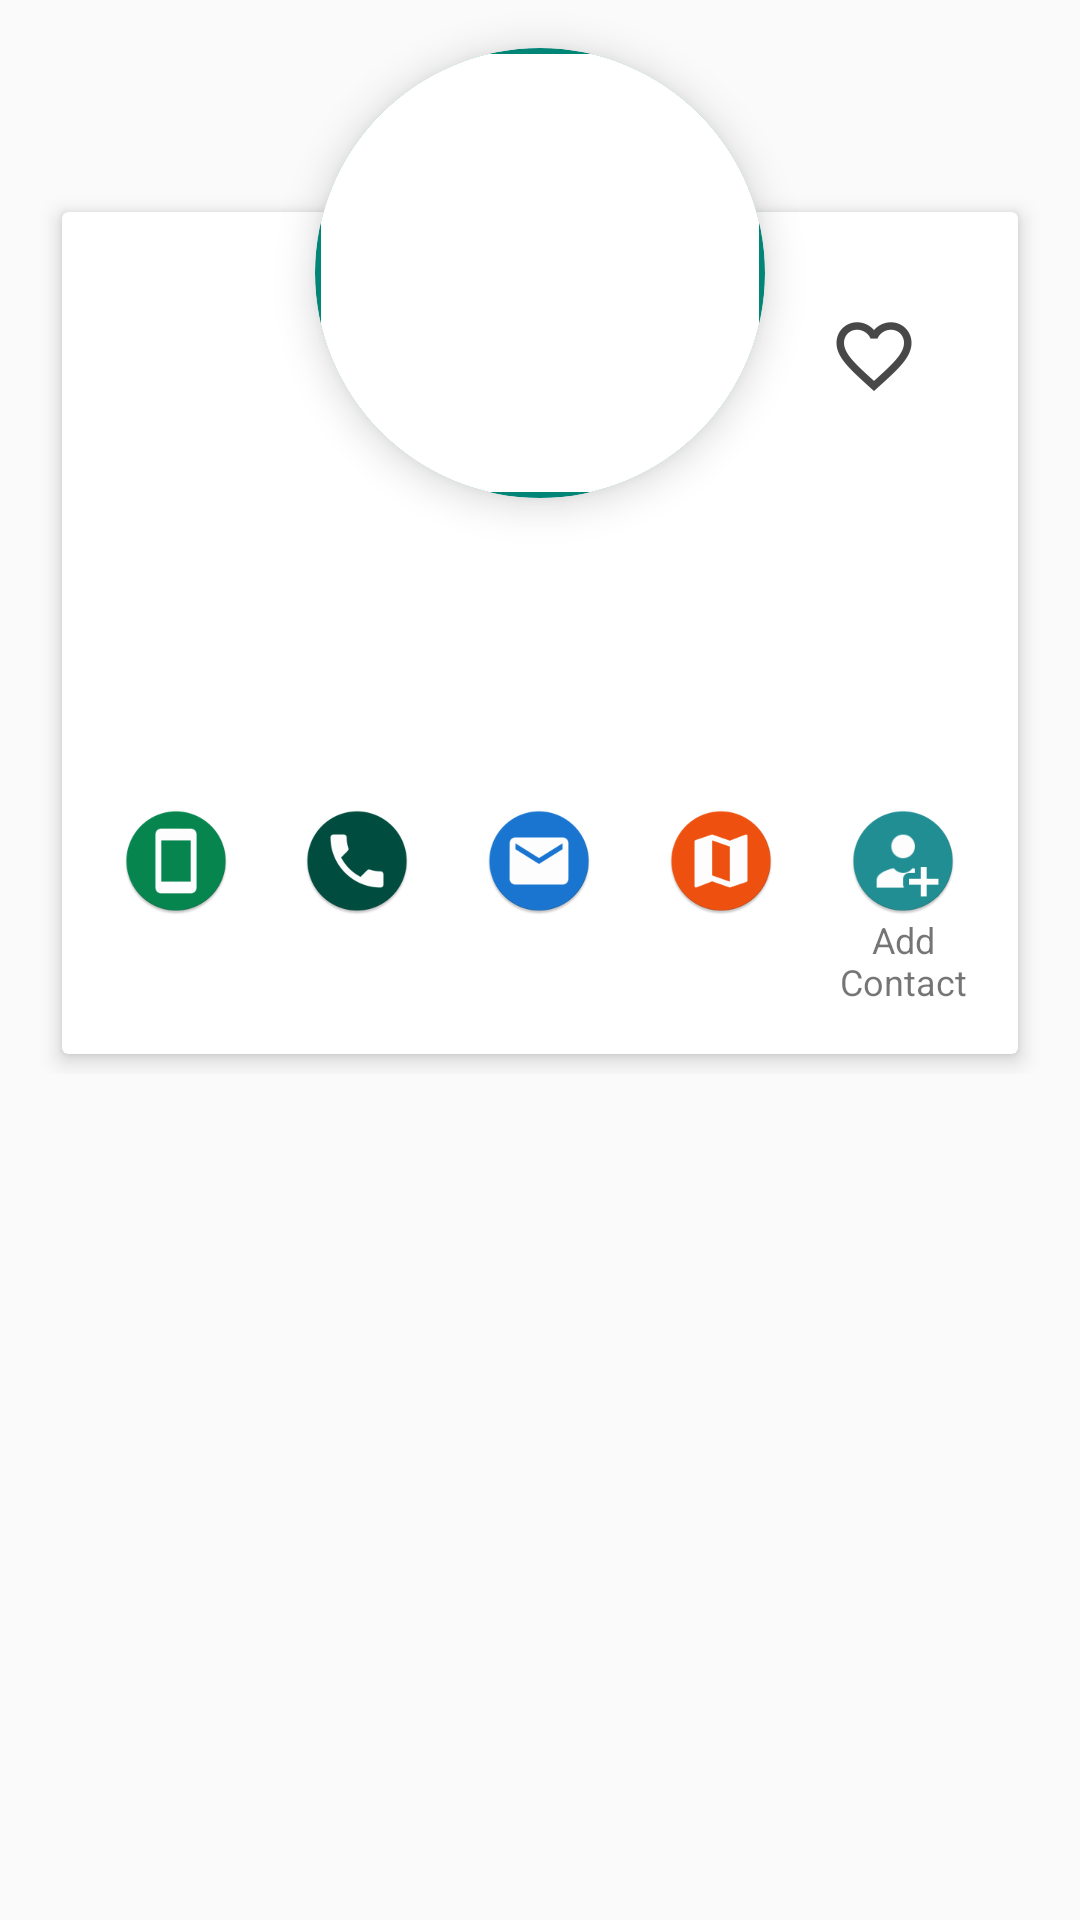

Where to tap for icons on this 1080 x 1920 app screen, as [x,y]:
address: [721,862]
call: [357,862]
cell: [176,862]
fav toggle: [874,356]
mail: [539,862]
